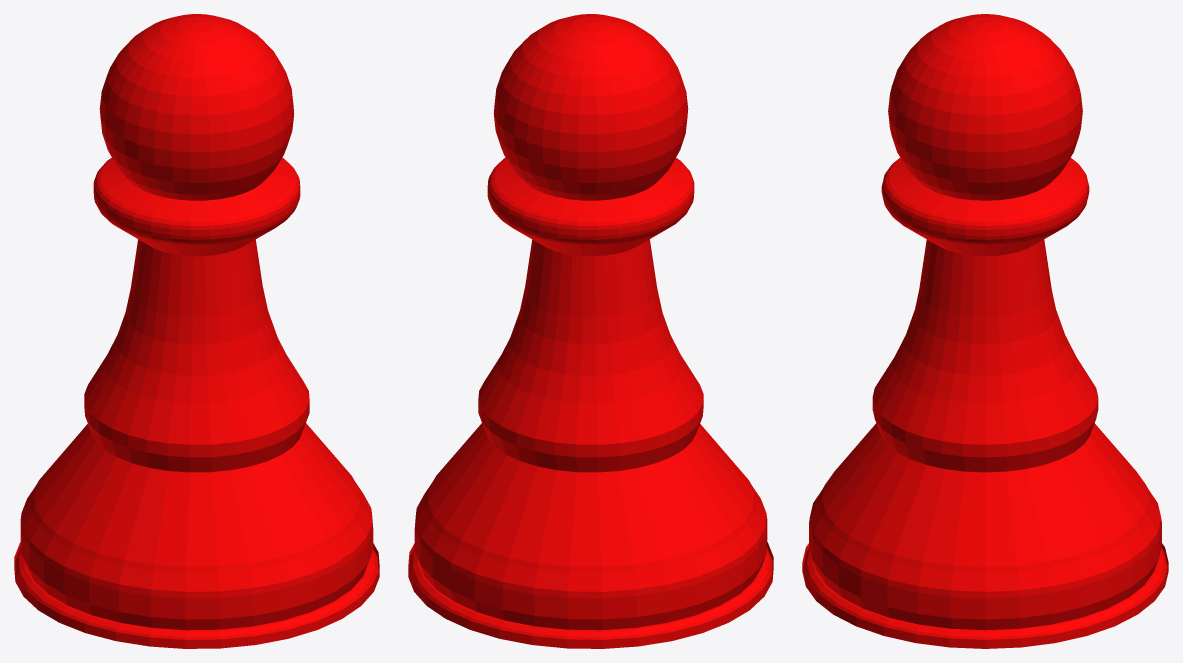
Rendered from redPawnParent.fbx.
The picture shows the model from 3 angles, left to right: view 1: azimuth 30°, elevation 25°; view 2: azimuth 150°, elevation 25°; view 3: azimuth 270°, elevation 25°; orthographic projection.
Visible parts, largest first — view 1: 円柱, 球; view 2: 円柱, 球; view 3: 円柱, 球.
Boxes of the visible parts, bbox=[...] form: 円柱: bbox=[14, 157, 379, 648]; 球: bbox=[99, 14, 294, 200]; 円柱: bbox=[408, 157, 773, 648]; 球: bbox=[493, 14, 688, 200]; 円柱: bbox=[802, 158, 1168, 648]; 球: bbox=[888, 14, 1082, 200].
Size of the model in its own units: 200 by 333 by 200.
